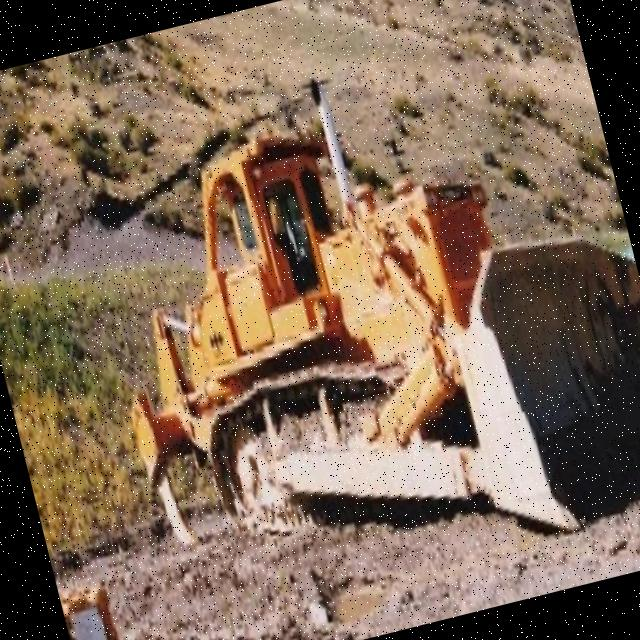Bulldozer: (40, 19, 640, 640)
